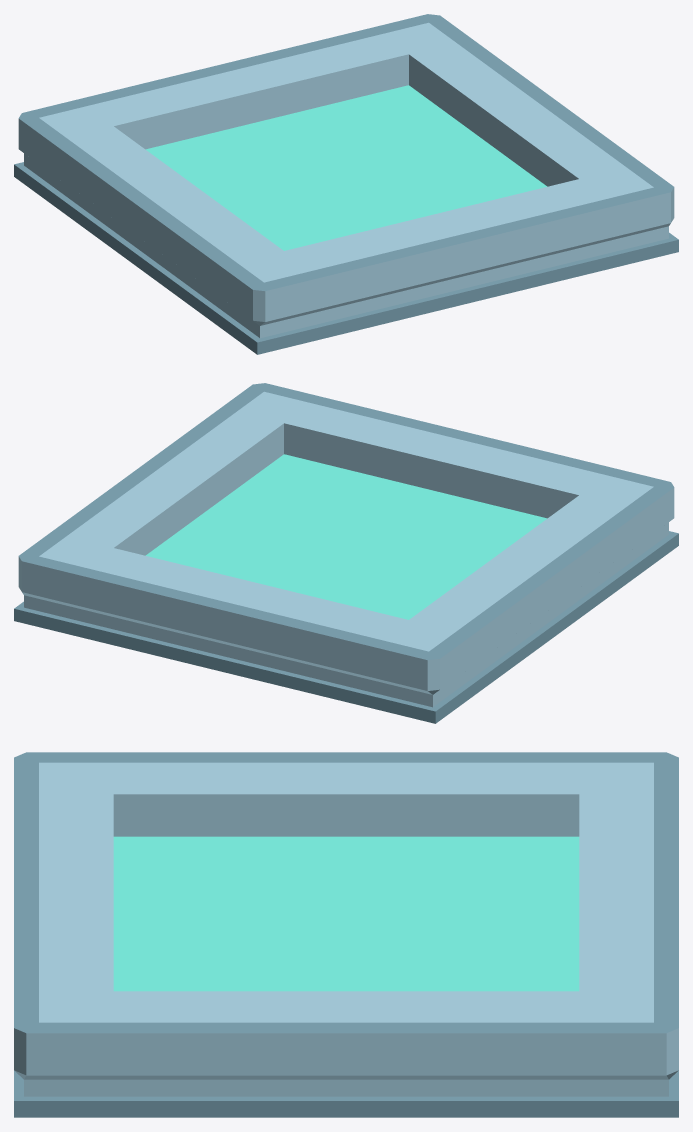
Rendered from fountainSquare.obj.
3 renders of one model, top to bottom at view 1: azimuth 30°, elevation 25°; view 2: azimuth 150°, elevation 25°; view 3: azimuth 270°, elevation 25°, orthographic. The views are drawn at different scales.
Parts seen in each view (by area): view 1: fountainSquare; view 2: fountainSquare; view 3: fountainSquare.
Part boxes in pixels (x1,y1,x2,y2): fountainSquare: [14, 14, 678, 354]; fountainSquare: [14, 383, 678, 723]; fountainSquare: [14, 752, 678, 1117].
Bounding box in the file's own units: 2 × 0.28 × 2.
